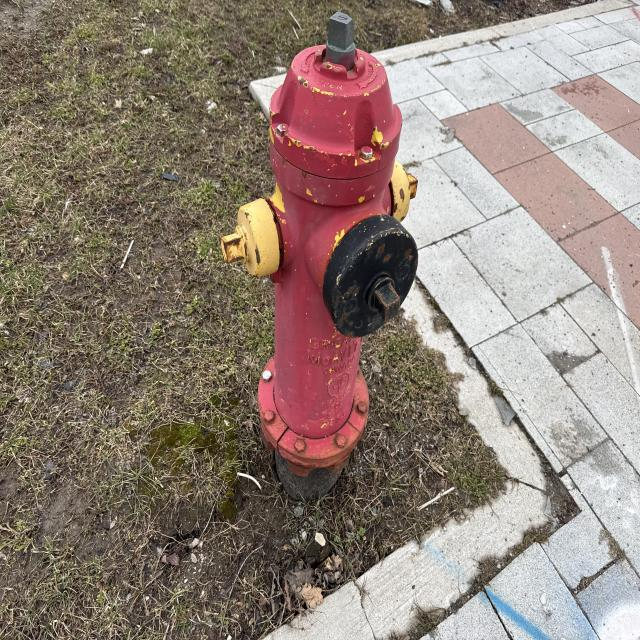Fire hydrant: (220, 12, 420, 478)
